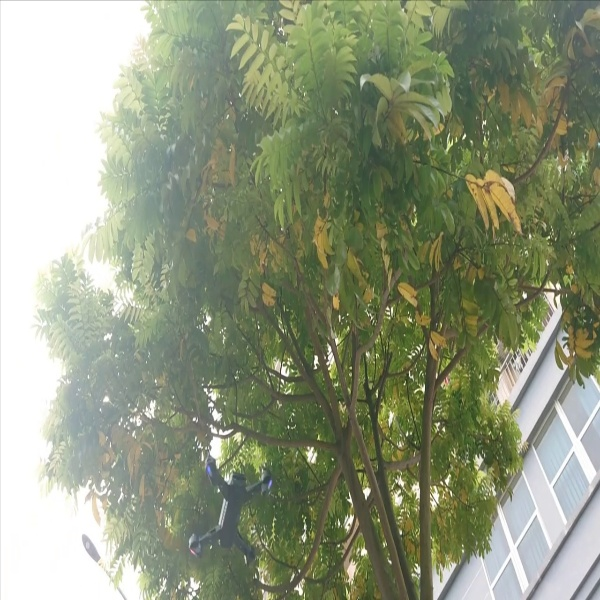drone: (176, 443, 281, 569)
